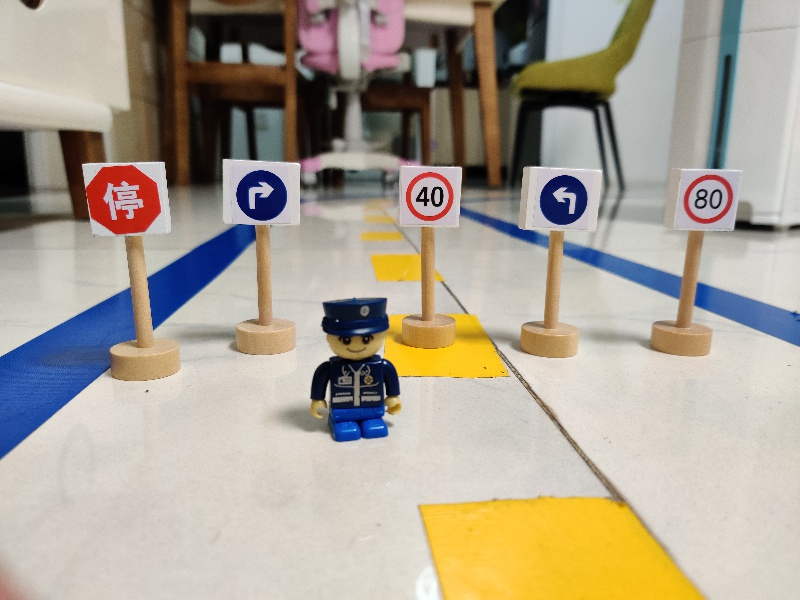limit_40: (396, 162, 466, 230)
limit_80: (659, 163, 744, 235)
person: (299, 288, 410, 447)
stop: (79, 160, 174, 238)
turn_left: (519, 163, 603, 234)
turn_right: (219, 156, 304, 228)
